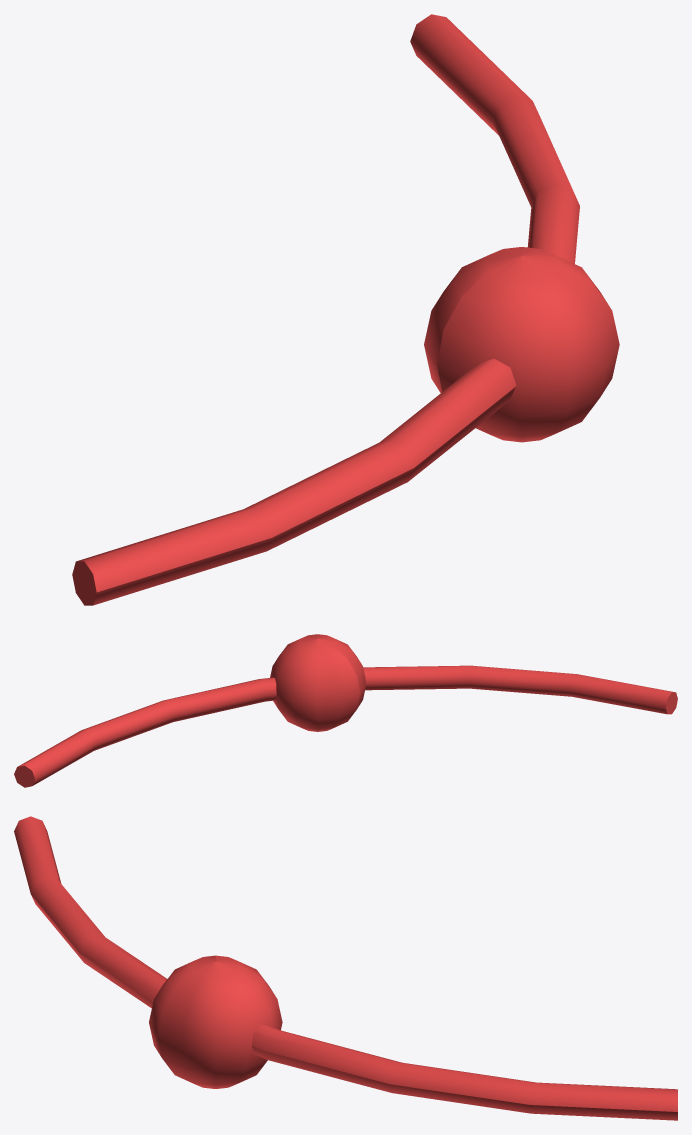
The model's file is rotation_red_merged.glb.
3 views of the same model, one above another, from view 1: azimuth 30°, elevation 25°; view 2: azimuth 150°, elevation 25°; view 3: azimuth 270°, elevation 25° (orthographic). The views are drawn at different scales.
Parts seen in each view (by area): view 1: BendTest.002; view 2: BendTest.002; view 3: BendTest.002.
Boxes of the visible parts, left/top/right/bottom form: BendTest.002: left=72, top=14, right=619, bottom=605; BendTest.002: left=14, top=634, right=677, bottom=787; BendTest.002: left=14, top=816, right=677, bottom=1120.
Bounding box in the file's own units: 0.9931 × 0.2 × 0.9931.
